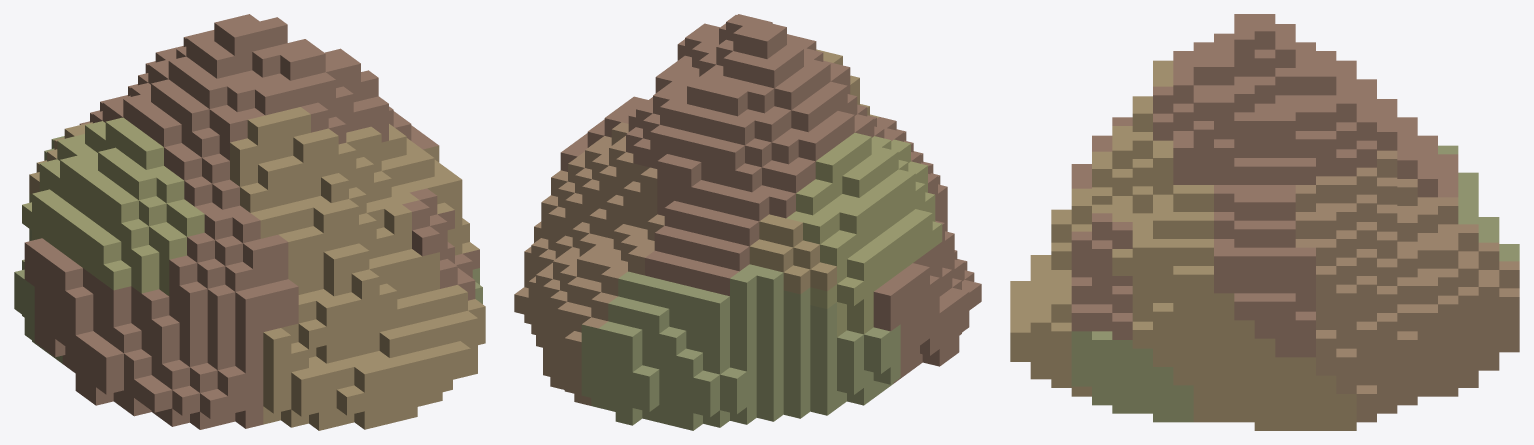
File: JunkPile2.fbx
3 views of the same model, side by side, from view 1: azimuth 30°, elevation 25°; view 2: azimuth 150°, elevation 25°; view 3: azimuth 270°, elevation 25° (orthographic). The views are drawn at different scales.
Visible parts, largest first — view 1: Cube.061; view 2: Cube.061; view 3: Cube.061.
Boxes of the visible parts, x1,y1,x2,y2 form: Cube.061: (14,14,485,430); Cube.061: (514,14,981,430); Cube.061: (1010,14,1519,430).
Bounding box in the file's own units: 387 × 313 × 461.
